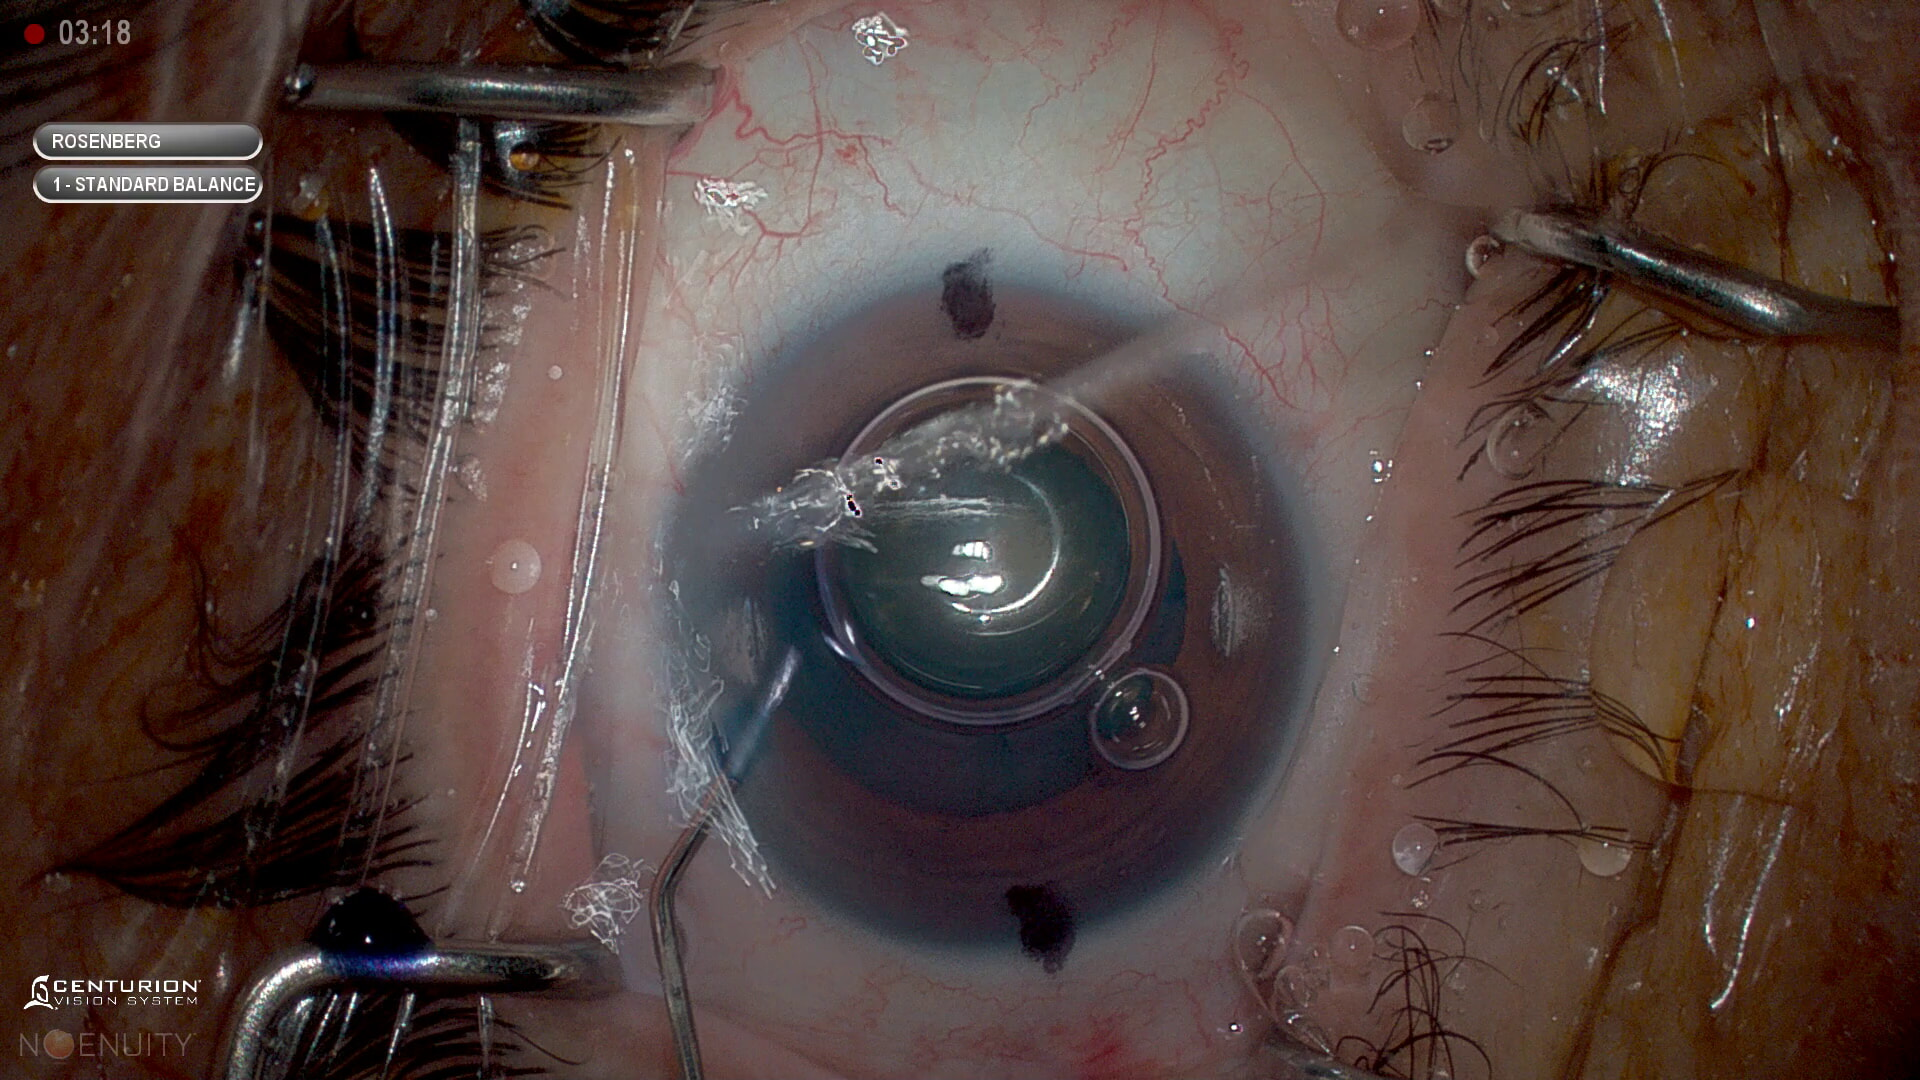iris: (677, 289, 1305, 946)
pupil: (769, 404, 1203, 802)
